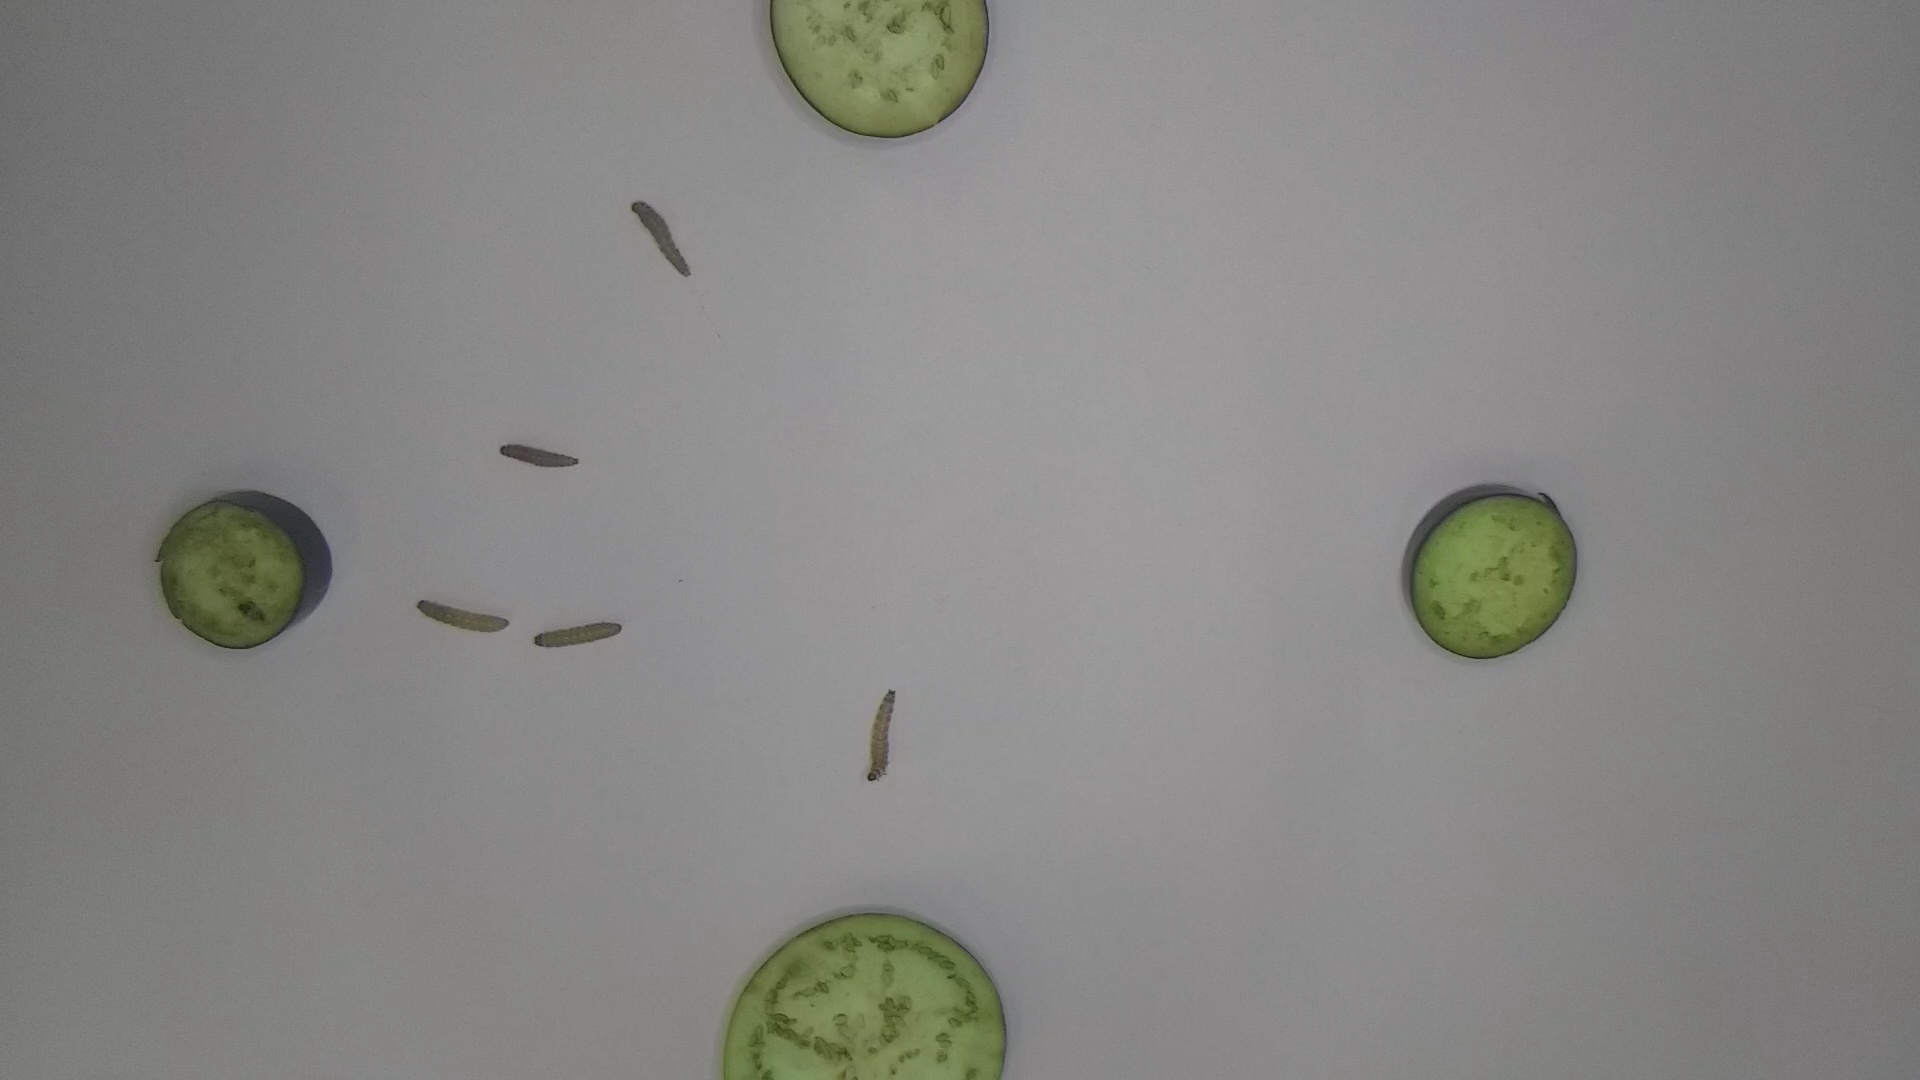efsb: (628, 195, 696, 281), (411, 597, 514, 637), (864, 682, 903, 785), (526, 618, 629, 650), (493, 436, 583, 472)
eggplant: (715, 909, 1014, 1080), (760, 1, 1006, 146), (1396, 476, 1581, 662), (157, 484, 338, 654)
